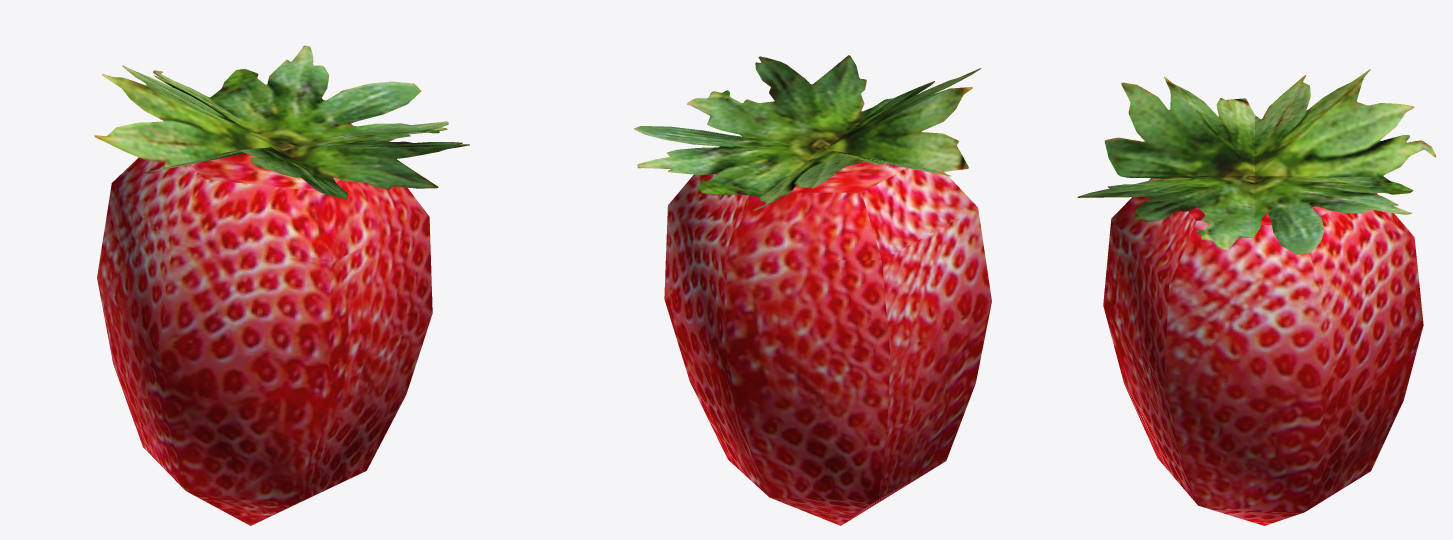
The model's file is Strawberry.fbx.
The picture shows the model from 3 angles, left to right: view 1: azimuth 30°, elevation 25°; view 2: azimuth 150°, elevation 25°; view 3: azimuth 270°, elevation 25°; orthographic projection. The views are drawn at different scales.
Visible parts, largest first — view 1: Strawberry; view 2: Strawberry; view 3: Strawberry.
Part boxes in pixels (left/top/right/bottom): Strawberry: left=94, top=45, right=469, bottom=525; Strawberry: left=634, top=55, right=991, bottom=525; Strawberry: left=1077, top=69, right=1435, bottom=525.
Bounding box in the file's own units: 6.86 × 9.17 × 6.87.
